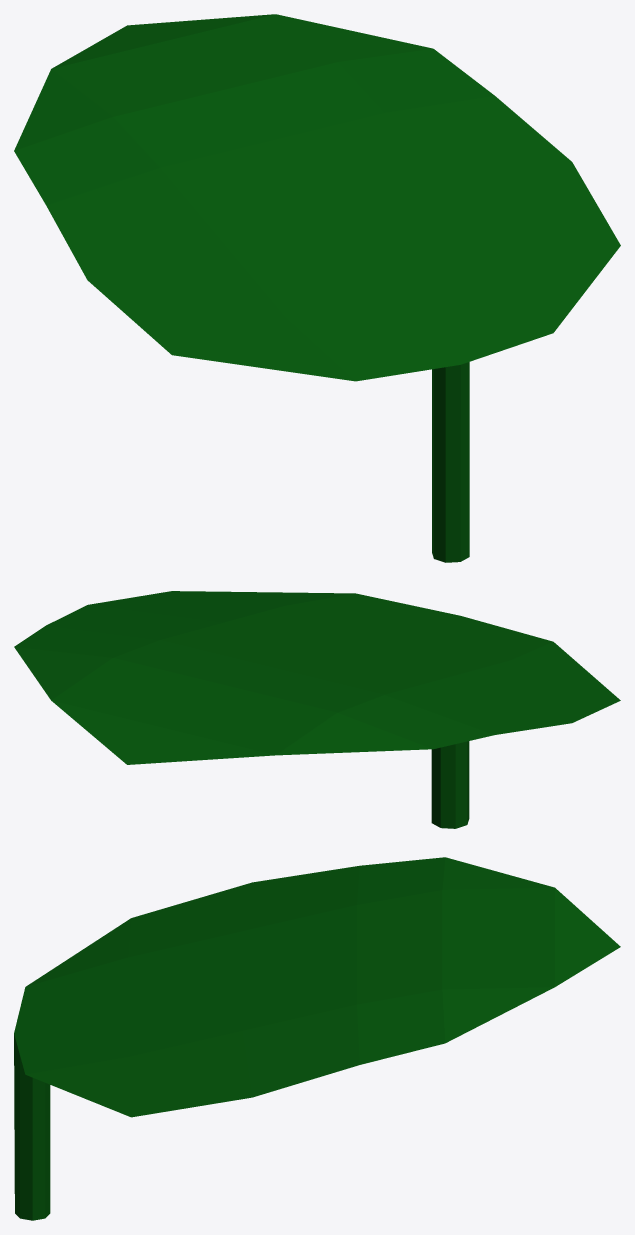
The model's file is Plantain.fbx.
3 views of the same model, one above another, from view 1: azimuth 30°, elevation 25°; view 2: azimuth 150°, elevation 25°; view 3: azimuth 270°, elevation 25° (orthographic). The views are drawn at different scales.
Visible parts, largest first — view 1: Plane.005; view 2: Plane.005; view 3: Plane.005.
Boxes of the visible parts, x1,y1,x2,y2 form: Plane.005: (14,14,620,562); Plane.005: (14,591,620,828); Plane.005: (14,857,620,1220).
Size of the model in its own units: 216 by 129 by 257.
